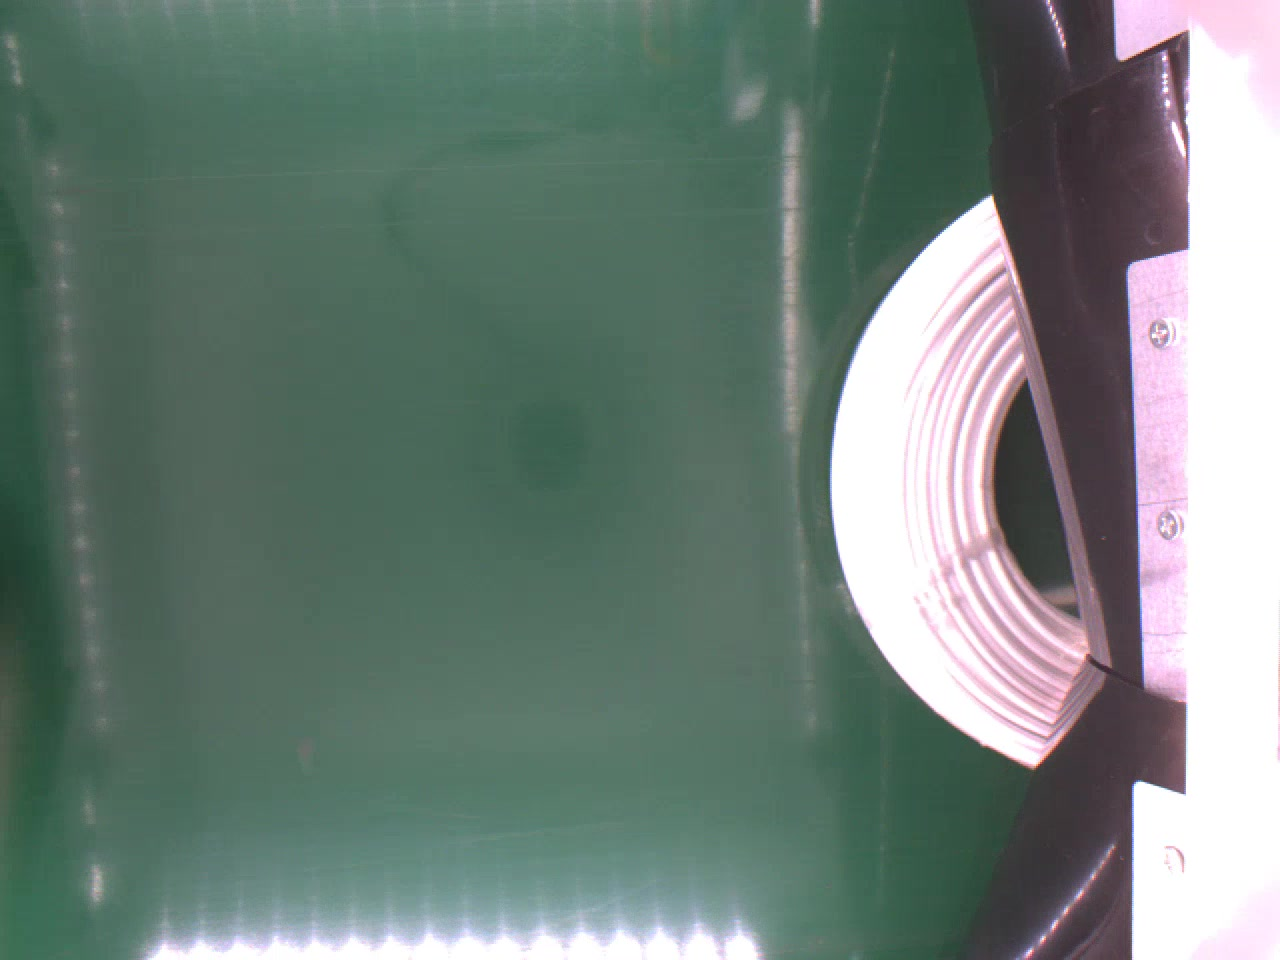white: (827, 179, 1089, 774)
